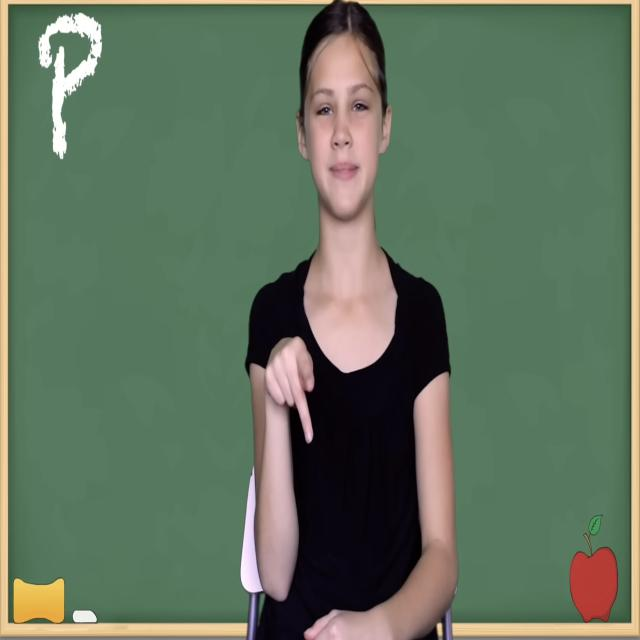P: (254, 328, 334, 457)
